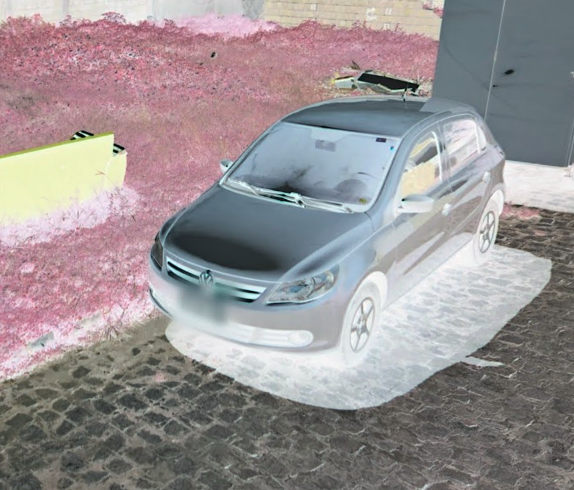car: (144, 84, 508, 373)
